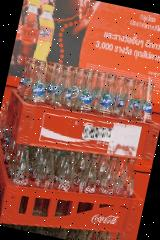glass: (24, 60, 157, 127)
